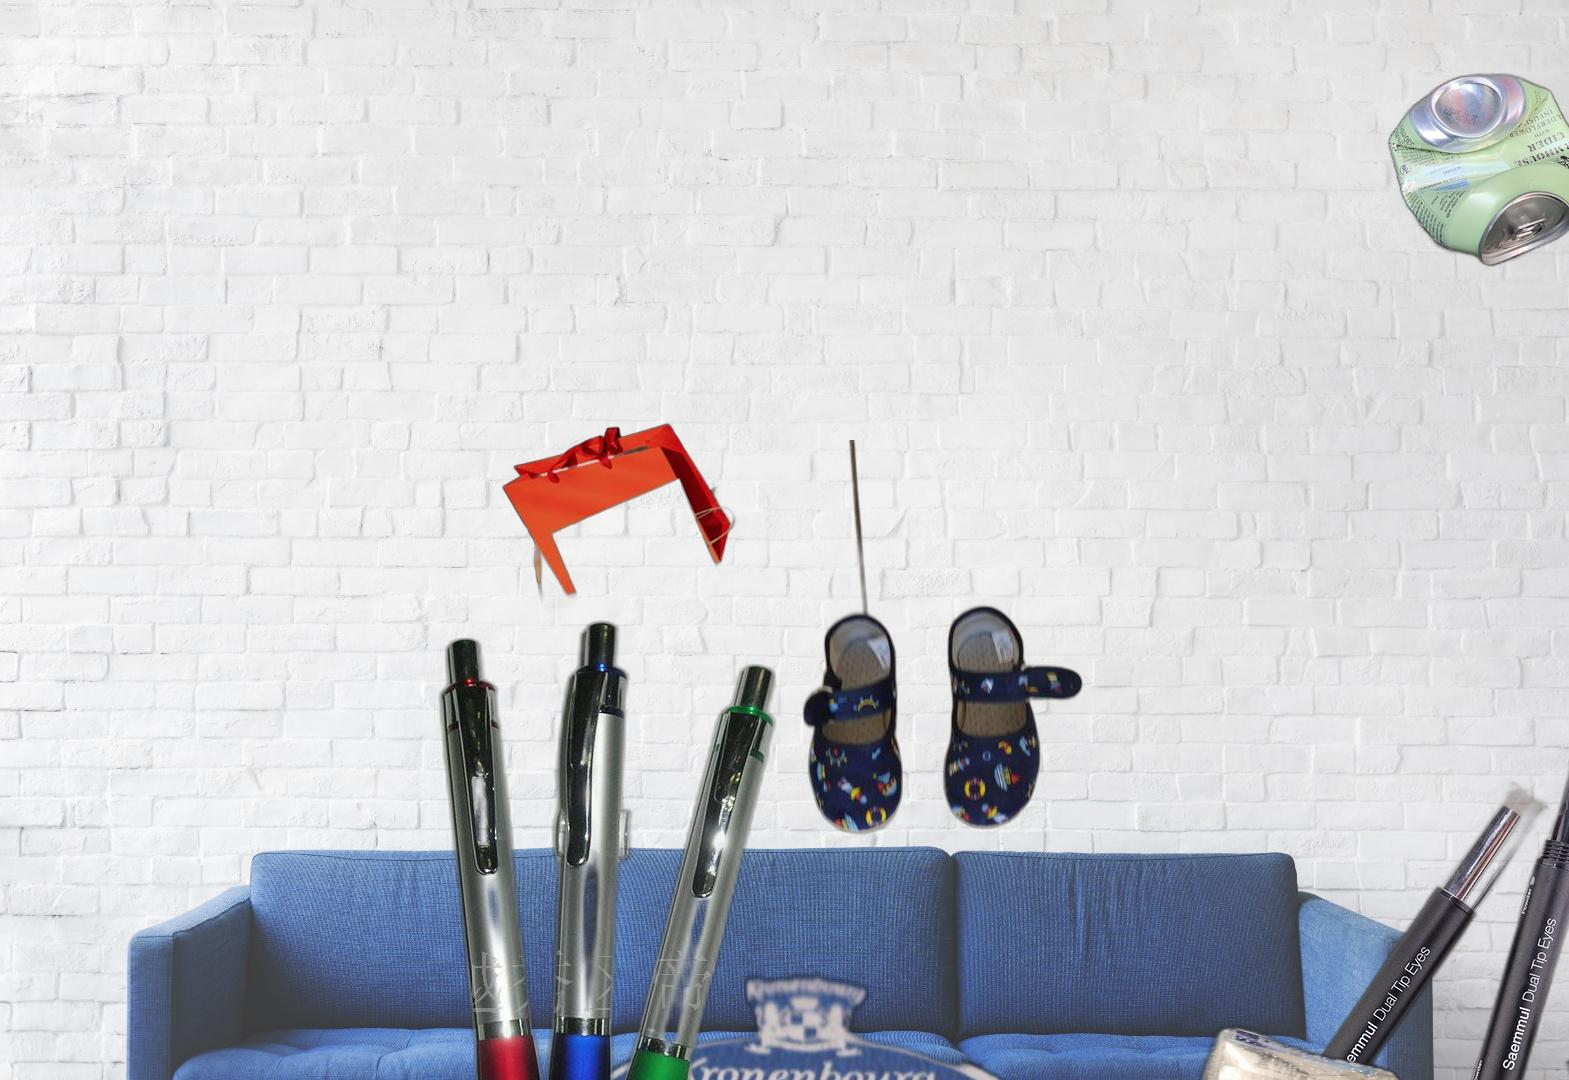metal-cans: (1218, 68, 1569, 390)
paper-bag: (501, 422, 738, 612)
penholder: (432, 615, 784, 1080), (1213, 737, 1569, 1080)
plastic-bottles: (1185, 1022, 1441, 1080)
shoes: (801, 440, 1086, 839)
trashbox-cardboard: (537, 966, 1065, 1080)
